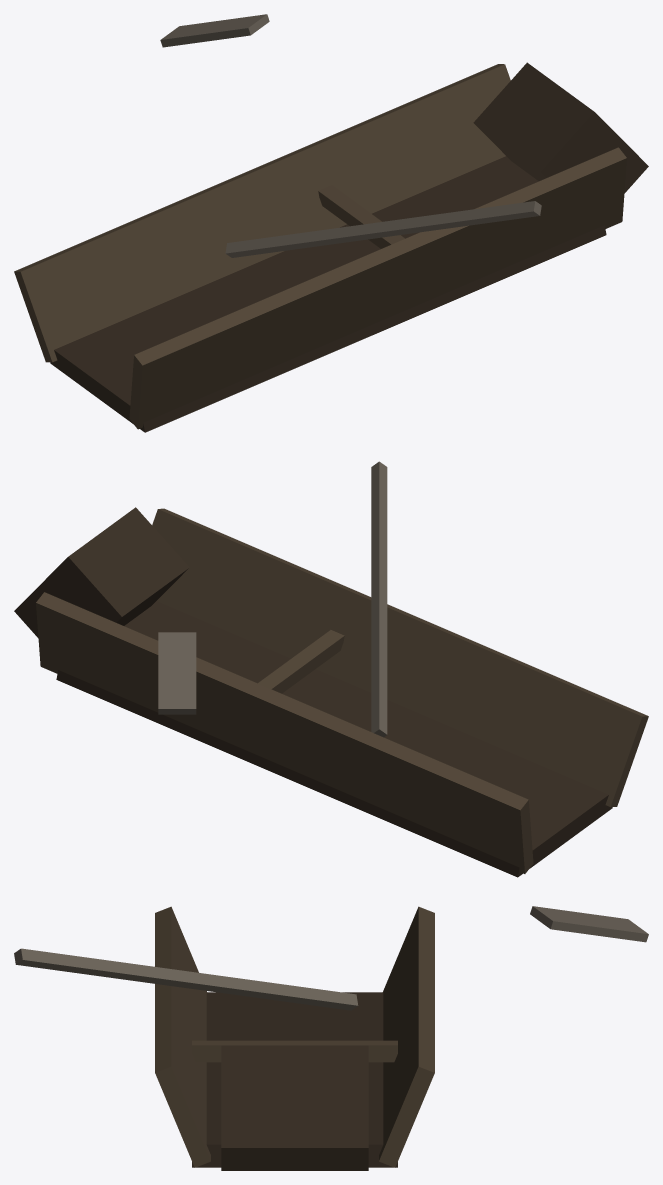
The model's file is decor_boat.glb.
3 views of the same model, one above another, from view 1: azimuth 30°, elevation 25°; view 2: azimuth 150°, elevation 25°; view 3: azimuth 270°, elevation 25° (orthographic). The views are drawn at different scales.
Visible parts, largest first — view 1: decor_boat; view 2: decor_boat; view 3: decor_boat.
Part boxes in pixels (x1=…): decor_boat: x1=14, y1=14, x2=648, y2=432; decor_boat: x1=14, y1=461, x2=648, y2=877; decor_boat: x1=14, y1=906, x2=648, y2=1170.
Bounding box in the file's own units: 2.3 × 0.9255 × 2.16.
